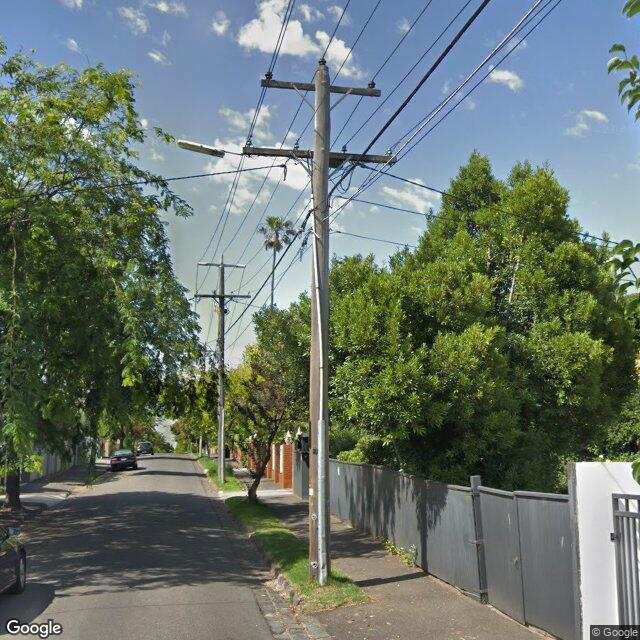HV-transmission: (261, 56, 382, 100), (196, 254, 247, 268)
crossarm: (242, 136, 398, 168), (260, 78, 382, 99), (193, 290, 252, 302), (208, 264, 237, 268)
streetlight: (178, 140, 242, 160)
timber-pole: (311, 69, 331, 587), (218, 261, 226, 483)
